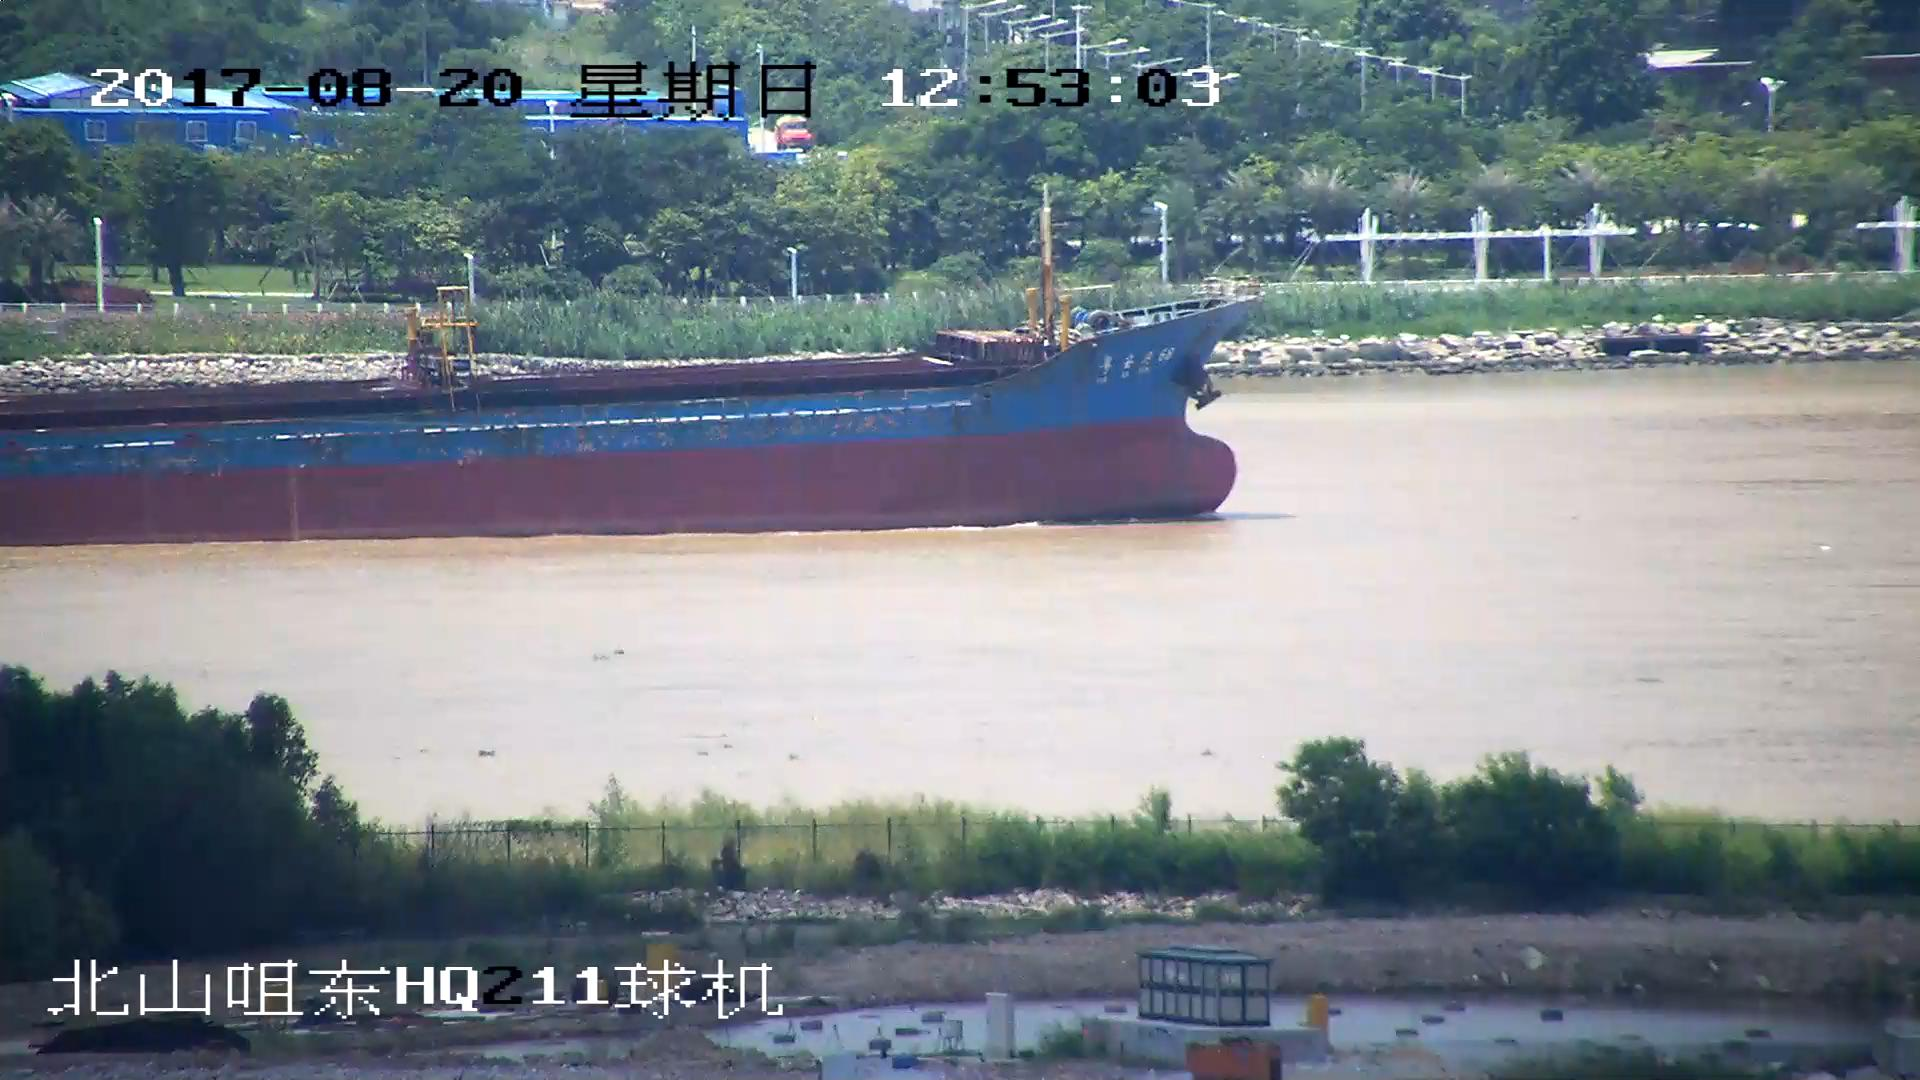general cargo ship: (1, 281, 1253, 537)
